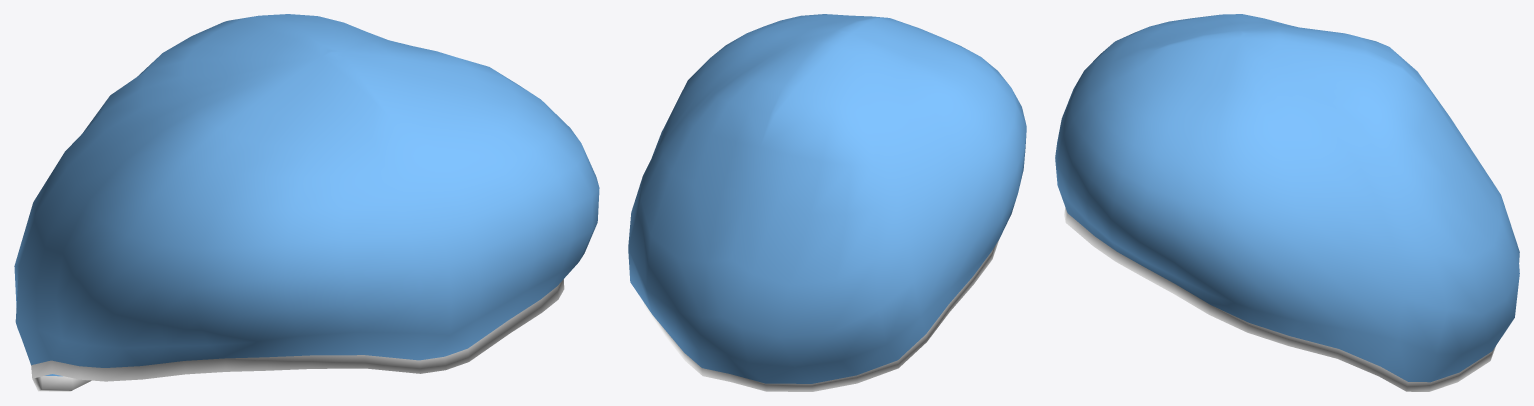
File: hair-net.fbx
3 renders of one model, left to right at view 1: azimuth 30°, elevation 25°; view 2: azimuth 150°, elevation 25°; view 3: azimuth 270°, elevation 25°, orthographic. The views are drawn at different scales.
Parts seen in each view (by area): view 1: hair-net; view 2: hair-net; view 3: hair-net.
Part boxes in pixels (x1,y1,x2,y2): hair-net: [14, 14, 599, 391]; hair-net: [628, 14, 1026, 391]; hair-net: [1055, 14, 1519, 391].
Size of the model in its own units: 19.74 by 15.66 by 21.06.
